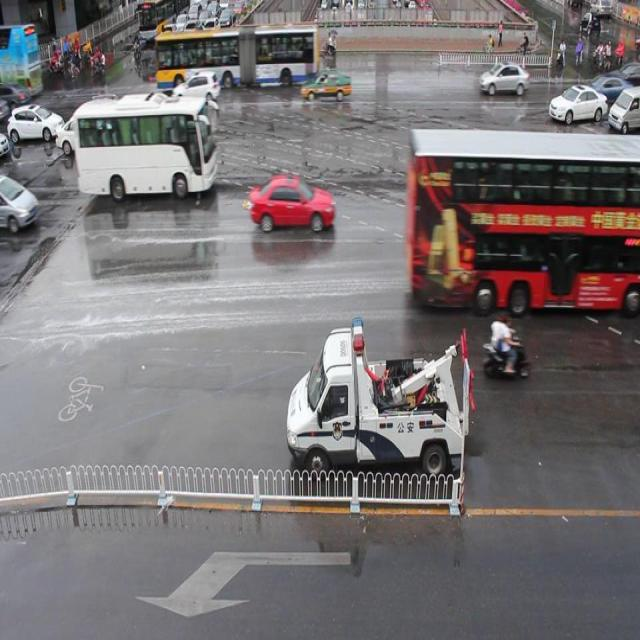car: (250, 173, 334, 231), (548, 82, 606, 123), (477, 60, 528, 96), (300, 68, 350, 101), (173, 71, 220, 106)
van: (407, 130, 640, 311), (72, 96, 215, 194), (154, 26, 316, 89)
